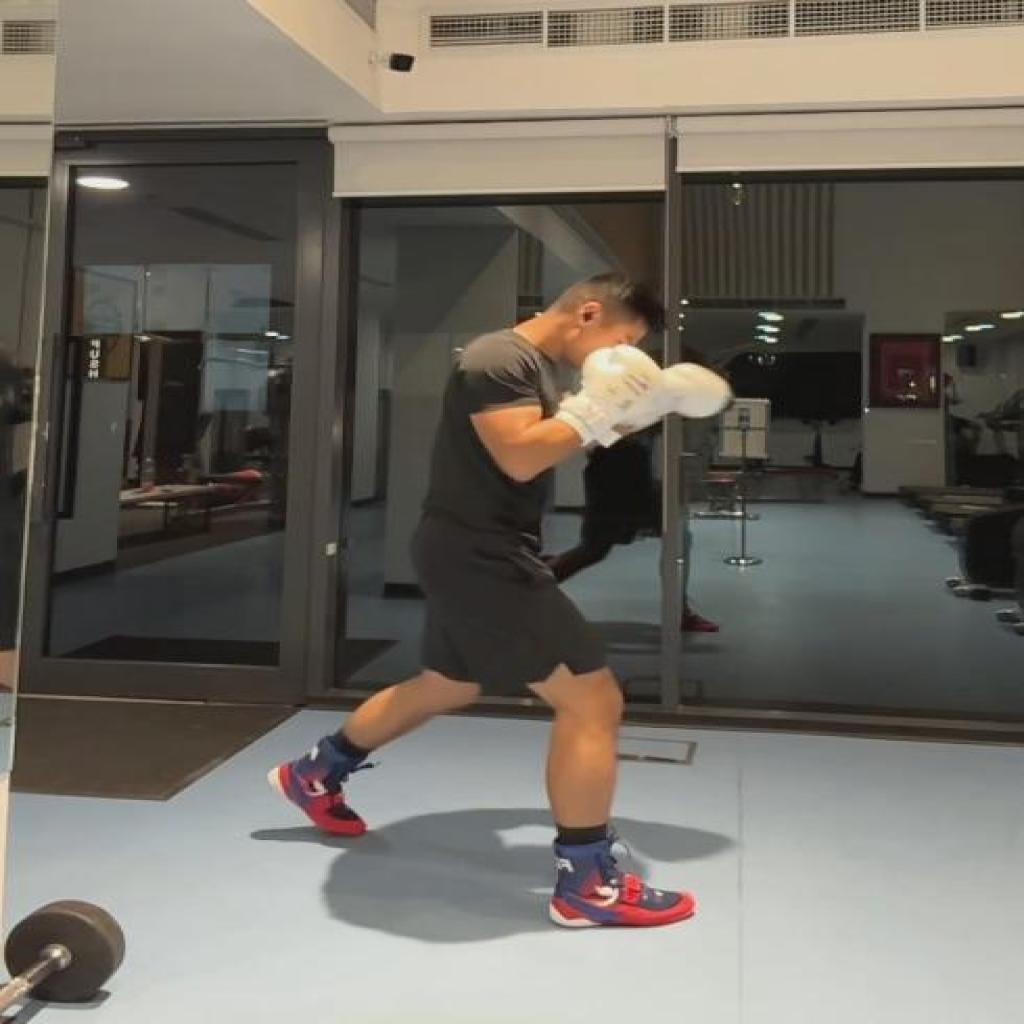no punch: (266, 267, 732, 938)
